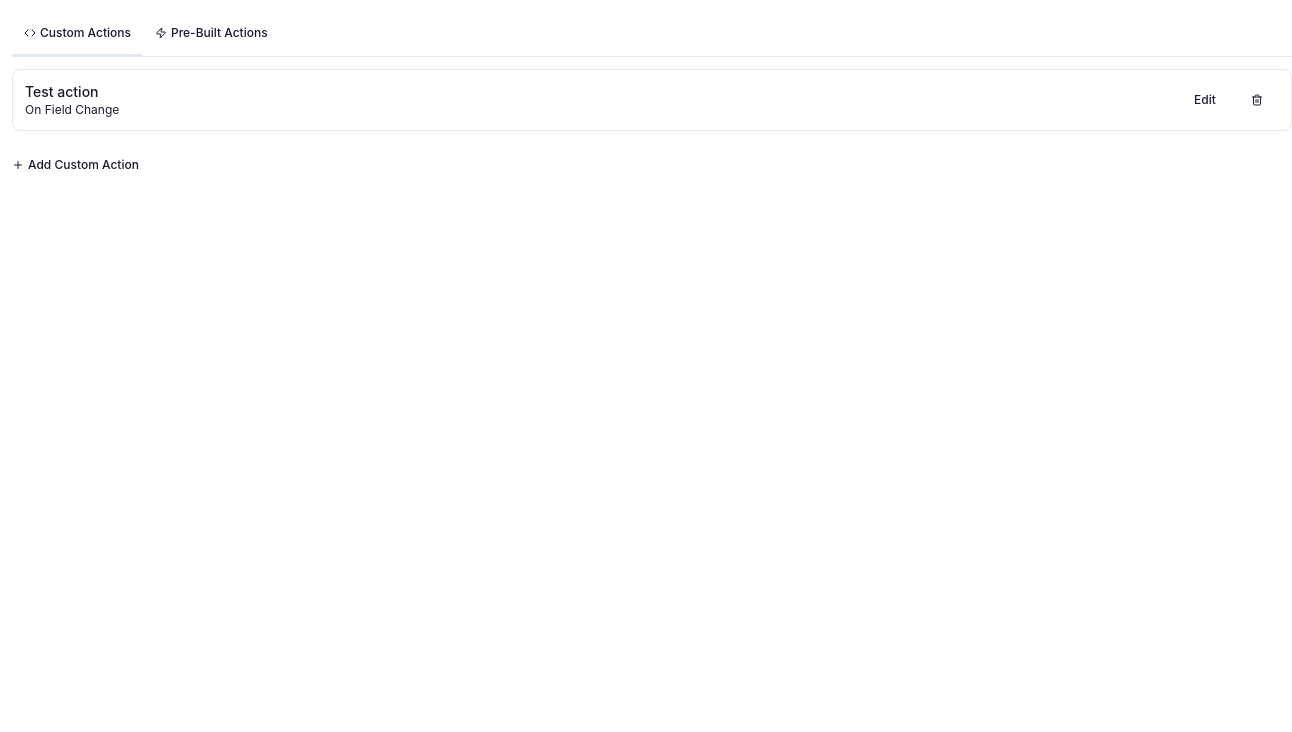
Test: ActionEditor › accessibility › prohibited construct warnings have alert role
Click the button "Edit" at coordinates (1205, 100), box [1183, 78, 1227, 122]
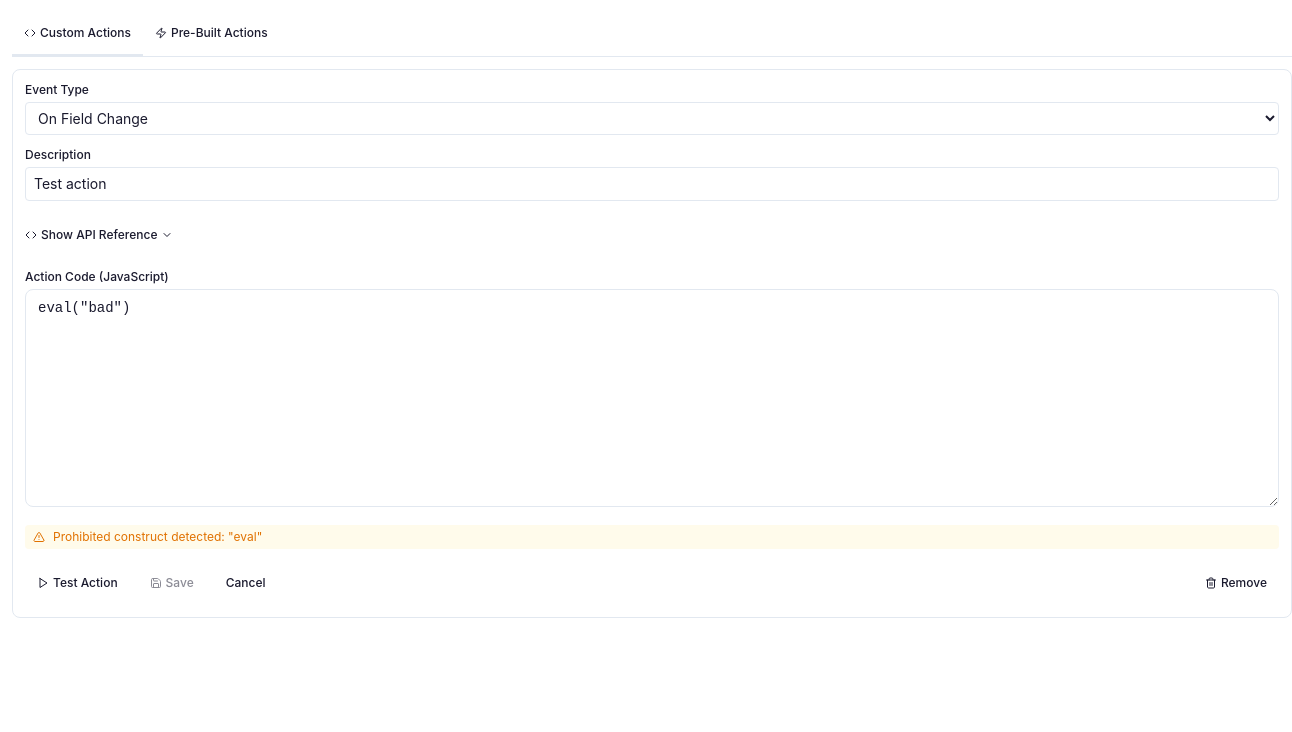
Now the message "Prohibited construct detected: \"eval\"" is shown, box [25, 525, 1279, 549]
